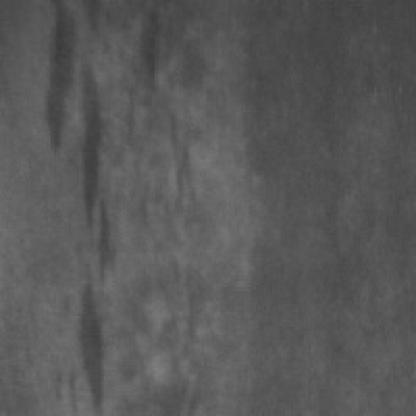inclusion: (40, 0, 119, 372), (63, 274, 116, 412), (129, 2, 179, 108)
